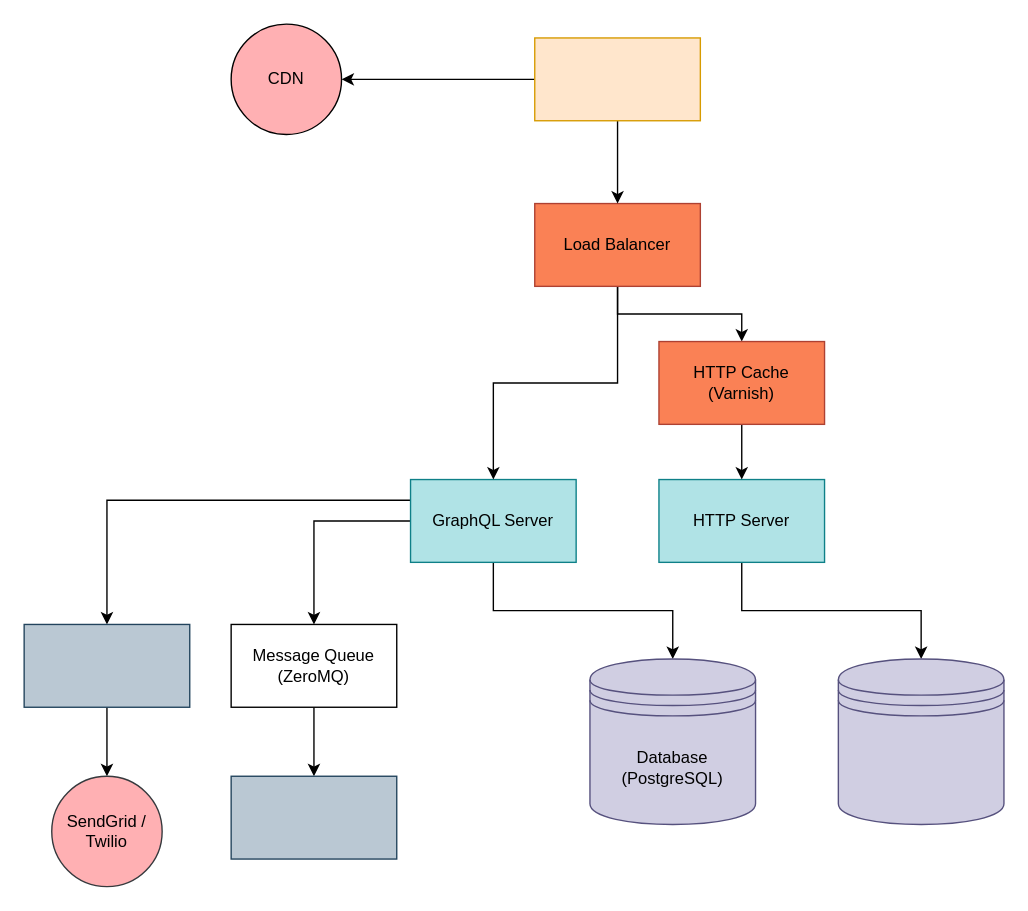
This 1028x911 diagram has some shape labels left out. Here are the shapes that lost their labels. From the top down, the centre of each, then its label:
[616,79]: Client
[106,665]: Notification Server
[920,741]: Static Files (S3)
[313,817]: Executor (Lambda)
